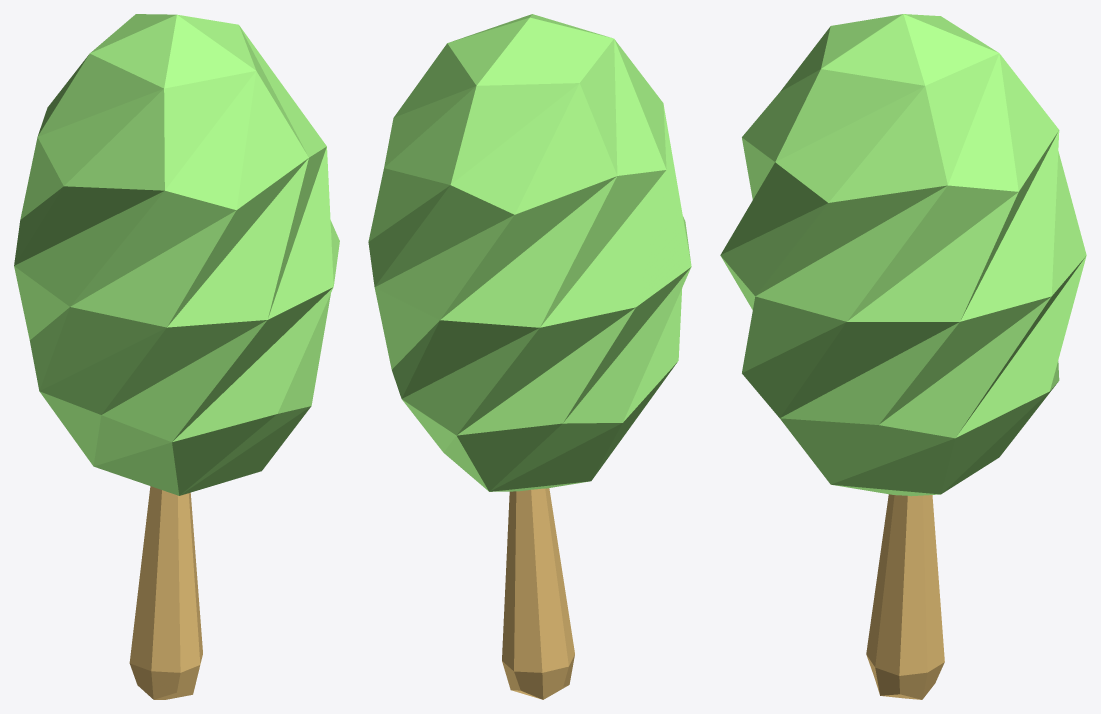
Rendered from tree16.gltf.
The picture shows the model from 3 angles, left to right: view 1: azimuth 30°, elevation 25°; view 2: azimuth 150°, elevation 25°; view 3: azimuth 270°, elevation 25°; orthographic projection.
Visible parts, largest first — view 1: Icosphere, Cube; view 2: Icosphere, Cube; view 3: Icosphere, Cube.
Part boxes in pixels (bbox=[...]): Icosphere: bbox=[14, 14, 339, 495]; Cube: bbox=[129, 486, 202, 699]; Icosphere: bbox=[368, 14, 691, 491]; Cube: bbox=[502, 488, 574, 699]; Icosphere: bbox=[720, 14, 1086, 496]; Cube: bbox=[866, 494, 944, 699].
Bounding box in the file's own units: 1.18 × 2.86 × 1.38.
